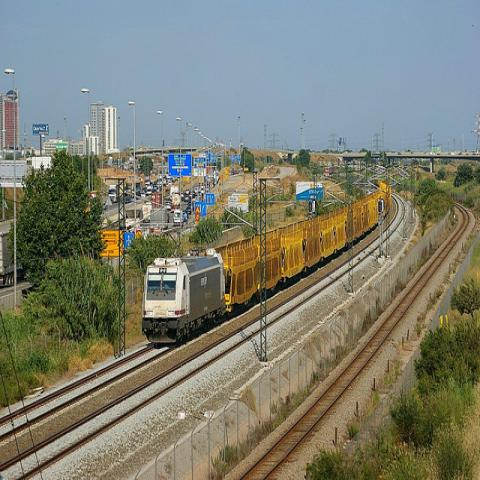car: (124, 194, 131, 204), (186, 206, 192, 216), (166, 208, 175, 214), (183, 211, 188, 221), (184, 194, 189, 201), (194, 187, 199, 193), (187, 202, 194, 206), (188, 192, 192, 199), (185, 189, 190, 194), (181, 192, 185, 198), (201, 186, 204, 193)
